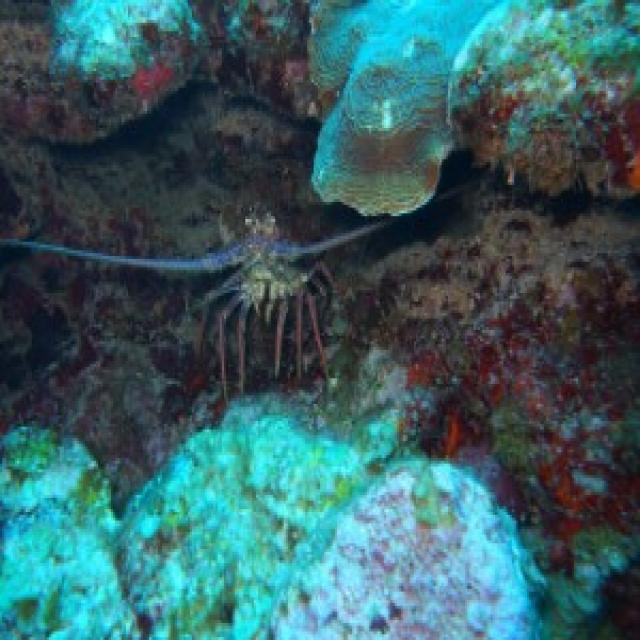lobsters: (83, 135, 467, 476)
